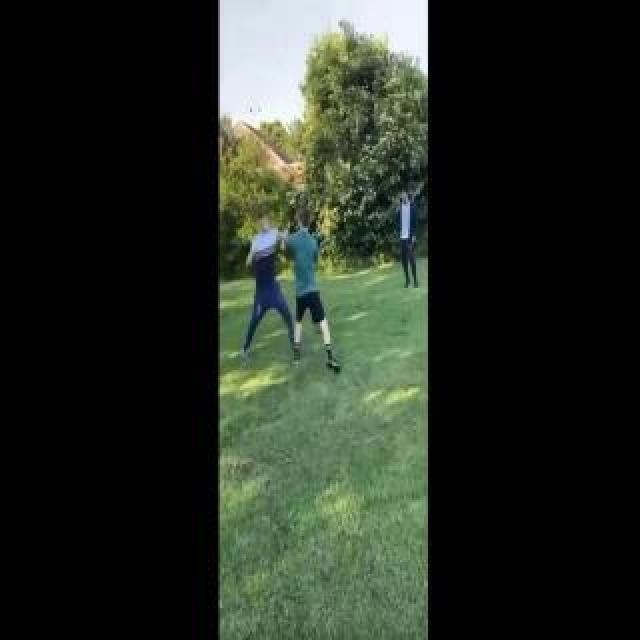fight: (240, 212, 352, 392), (381, 176, 423, 296)
